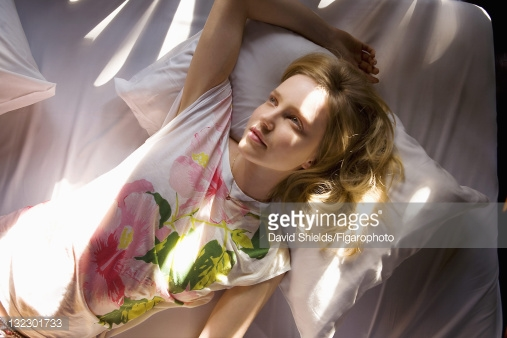deitado: (72, 10, 401, 338)
